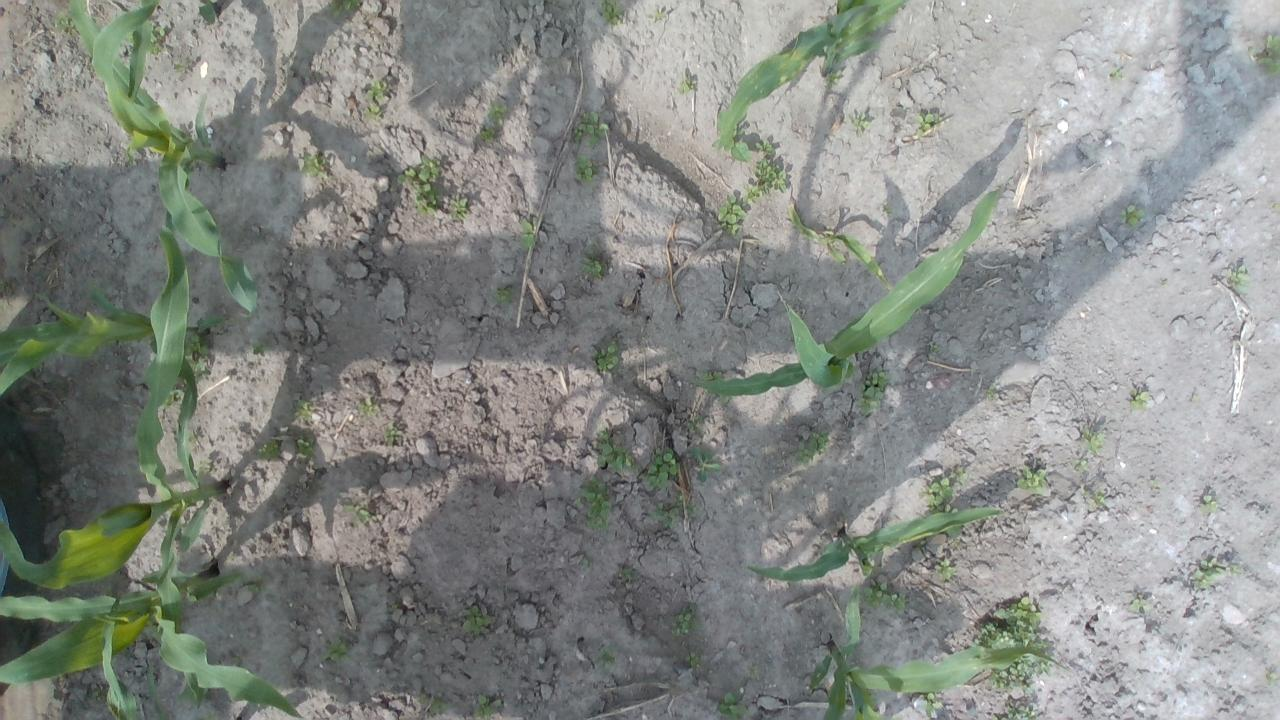Maize: (0, 210, 227, 593), (686, 186, 1006, 396), (66, 0, 261, 319), (0, 569, 307, 720), (812, 586, 1066, 720), (718, 0, 912, 147), (0, 282, 234, 402), (743, 505, 1009, 586), (784, 194, 894, 292), (100, 593, 174, 720), (127, 0, 217, 104)
Weeds: (968, 596, 1046, 654), (394, 154, 444, 216), (988, 654, 1053, 692), (572, 476, 612, 532), (594, 426, 634, 472), (639, 446, 680, 490), (857, 364, 891, 417), (710, 123, 750, 164), (862, 578, 906, 612), (572, 110, 608, 148), (183, 334, 210, 384), (795, 429, 830, 467), (918, 476, 954, 512), (717, 193, 747, 236), (1249, 35, 1280, 76), (753, 158, 788, 194), (361, 78, 389, 123), (649, 494, 684, 529), (692, 444, 722, 483), (670, 601, 703, 635), (1191, 557, 1226, 589), (298, 149, 331, 180), (590, 341, 620, 373), (1015, 464, 1047, 494), (582, 245, 610, 279), (716, 691, 748, 720), (460, 606, 492, 634), (990, 702, 1038, 720), (322, 636, 352, 662), (574, 154, 600, 184), (473, 694, 502, 720), (416, 693, 448, 716), (1226, 264, 1252, 292), (344, 500, 371, 526), (916, 112, 944, 137), (1082, 426, 1106, 455), (598, 0, 624, 25), (918, 691, 942, 718), (327, 0, 359, 20), (932, 558, 958, 581), (148, 24, 166, 57), (446, 196, 469, 221), (1082, 488, 1106, 511), (486, 100, 507, 126), (296, 436, 318, 460), (292, 398, 316, 420), (1120, 204, 1144, 226), (520, 217, 536, 250), (356, 397, 381, 418), (850, 112, 870, 138), (258, 439, 282, 460), (594, 648, 618, 669), (380, 422, 402, 444), (1127, 594, 1153, 612), (742, 183, 764, 204), (161, 387, 185, 406), (493, 286, 514, 307), (1130, 388, 1150, 410), (1198, 494, 1219, 514), (246, 576, 269, 594), (120, 146, 140, 166), (678, 72, 696, 94), (950, 464, 969, 484), (755, 138, 776, 156), (195, 459, 212, 481), (55, 12, 75, 30), (476, 126, 496, 143), (684, 652, 704, 668), (826, 70, 842, 88), (698, 370, 724, 381), (618, 568, 641, 580), (90, 688, 108, 703), (1108, 67, 1126, 82), (946, 524, 964, 538), (172, 60, 190, 74), (251, 341, 267, 356), (688, 415, 704, 430), (746, 665, 760, 681), (984, 384, 998, 399), (684, 502, 698, 517), (652, 9, 668, 22), (1074, 458, 1088, 472), (232, 651, 245, 666), (1228, 564, 1244, 576), (186, 430, 198, 443), (122, 30, 133, 44), (582, 556, 594, 568), (1148, 476, 1160, 488), (718, 395, 731, 405), (1268, 672, 1278, 684), (916, 540, 926, 552), (884, 204, 894, 214), (929, 343, 939, 352), (390, 600, 398, 610), (506, 627, 516, 635), (1190, 394, 1200, 402), (1273, 202, 1280, 210)
